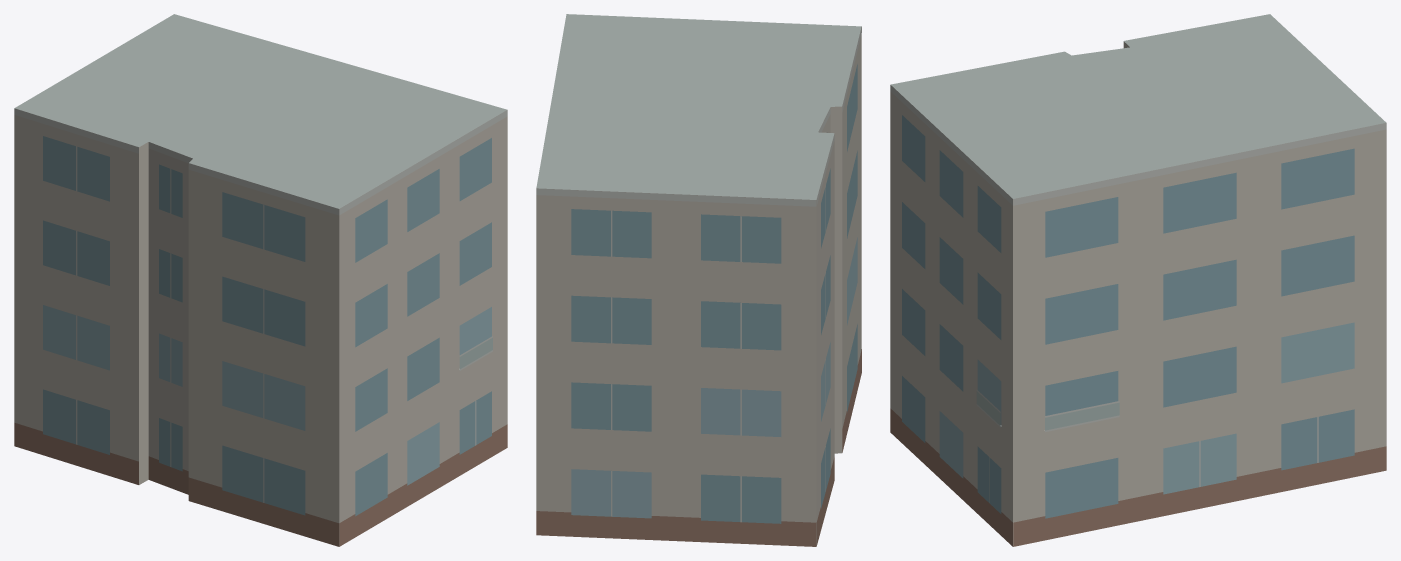
Rendered from survey-upis-32735111.glb.
3 views of the same model, side by side, from view 1: azimuth 30°, elevation 25°; view 2: azimuth 150°, elevation 25°; view 3: azimuth 270°, elevation 25° (orthographic). The views are drawn at different scales.
Parts seen in each view (by area): view 1: survey-upis-32735111.tmp; view 2: survey-upis-32735111.tmp; view 3: survey-upis-32735111.tmp.
Boxes of the visible parts, x1,y1,x2,y2 form: survey-upis-32735111.tmp: [14, 14, 507, 546]; survey-upis-32735111.tmp: [536, 14, 861, 546]; survey-upis-32735111.tmp: [890, 14, 1386, 546].
Size of the model in its own units: 14.39 by 12.6 by 16.3.
